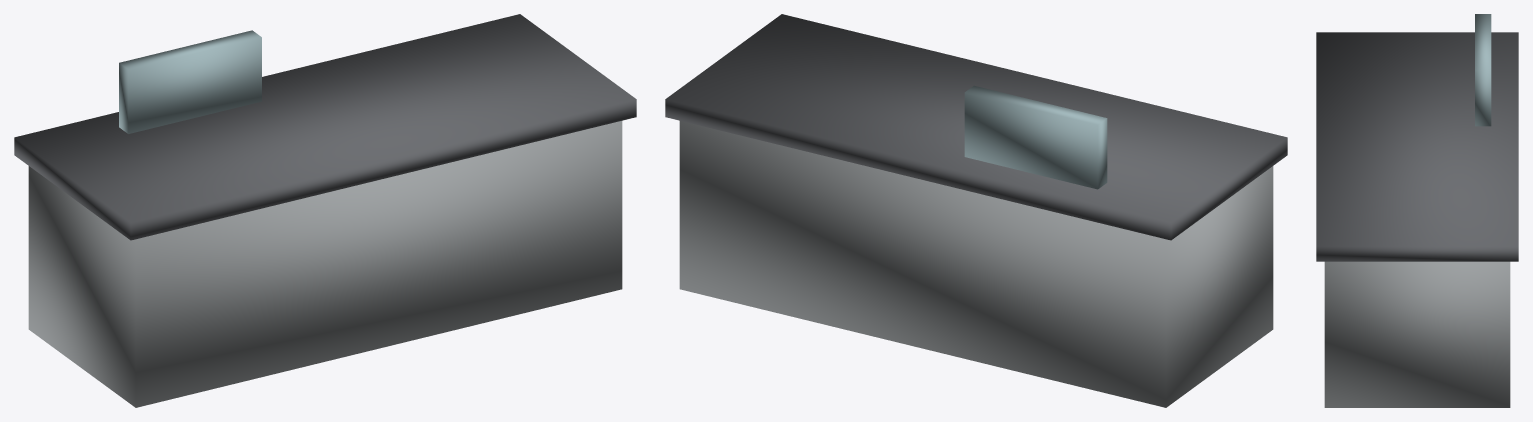
File: police_booking_desk__squat.glb
3 renders of one model, left to right at view 1: azimuth 30°, elevation 25°; view 2: azimuth 150°, elevation 25°; view 3: azimuth 270°, elevation 25°, orthographic. The views are drawn at different scales.
Visible parts, largest first — view 1: world; view 2: world; view 3: world.
Part boxes in pixels (bbox=[...]): world: bbox=[14, 14, 636, 407]; world: bbox=[665, 14, 1287, 407]; world: bbox=[1316, 14, 1518, 407].
Size of the model in its own units: 2 by 0.966 by 0.7992.
